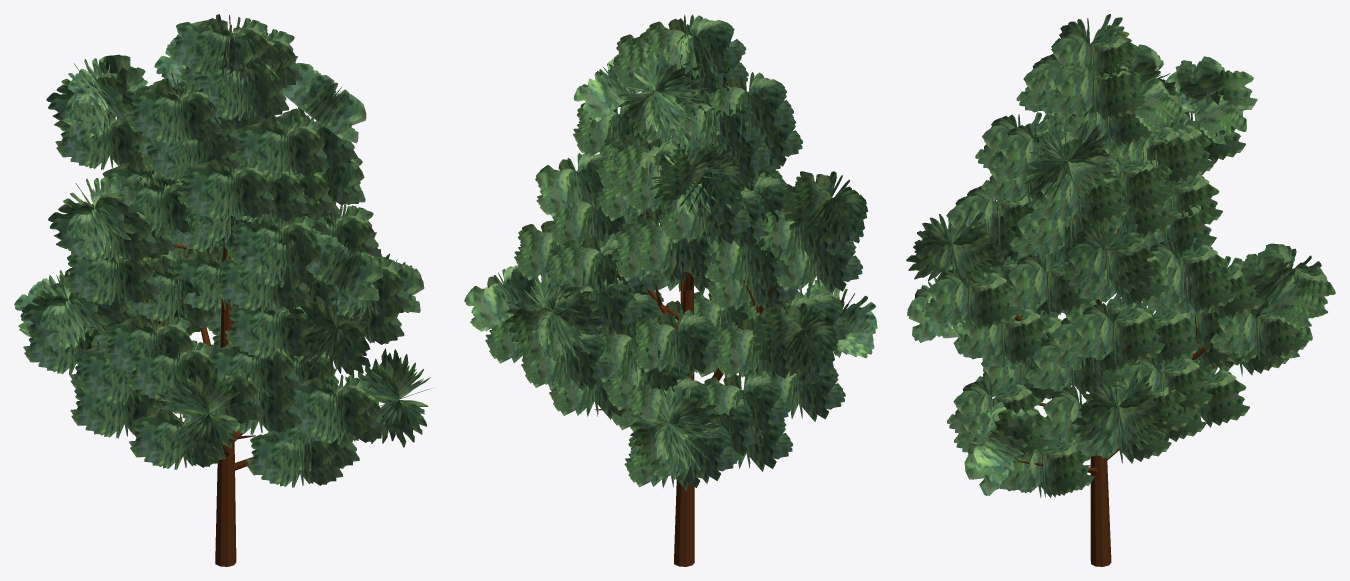
Rendered from tree4.dae.
The picture shows the model from 3 angles, left to right: view 1: azimuth 30°, elevation 25°; view 2: azimuth 150°, elevation 25°; view 3: azimuth 270°, elevation 25°; orthographic projection. The views are drawn at different scales.
Parts seen in each view (by area): view 1: Component_3 (×32), Component_2; view 2: Component_3 (×31), Component_2; view 3: Component_3 (×13), Component_2.
Part boxes in pixels (x1,y1,x2,y2): Component_3 (×32): (23, 25, 412, 475); Component_2: (215, 246, 236, 566); Component_3 (×31): (470, 26, 863, 475); Component_2: (674, 272, 694, 566); Component_3 (×13): (914, 128, 1296, 495); Component_2: (1090, 300, 1111, 566).
Bounding box in the file's own units: 138 × 138 × 188.
Materials: 2 (1 with a texture image).
